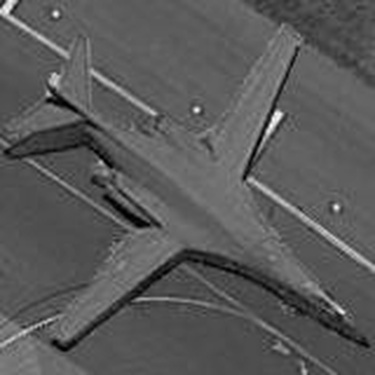airplane: (6, 13, 369, 360)
